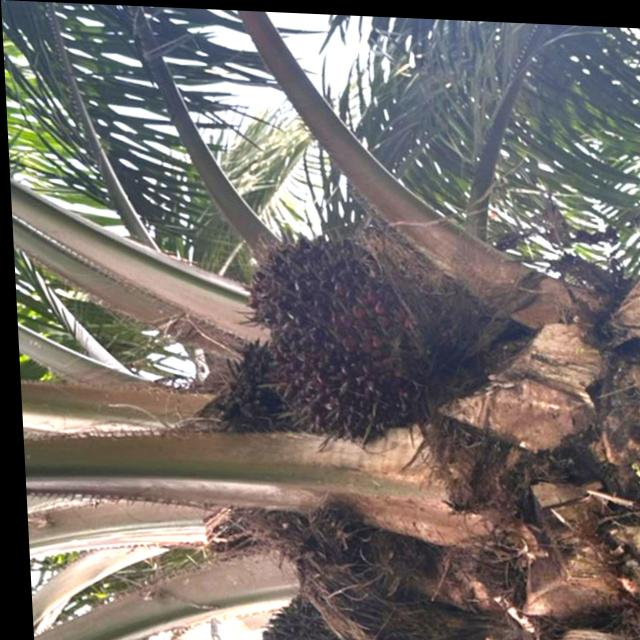ripe: (214, 208, 466, 466)
